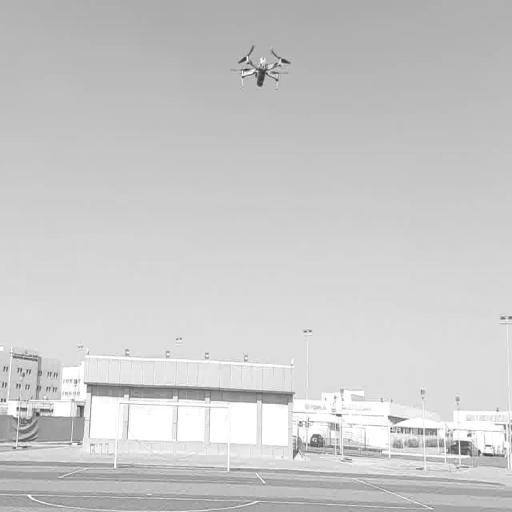drone: (234, 40, 297, 95)
